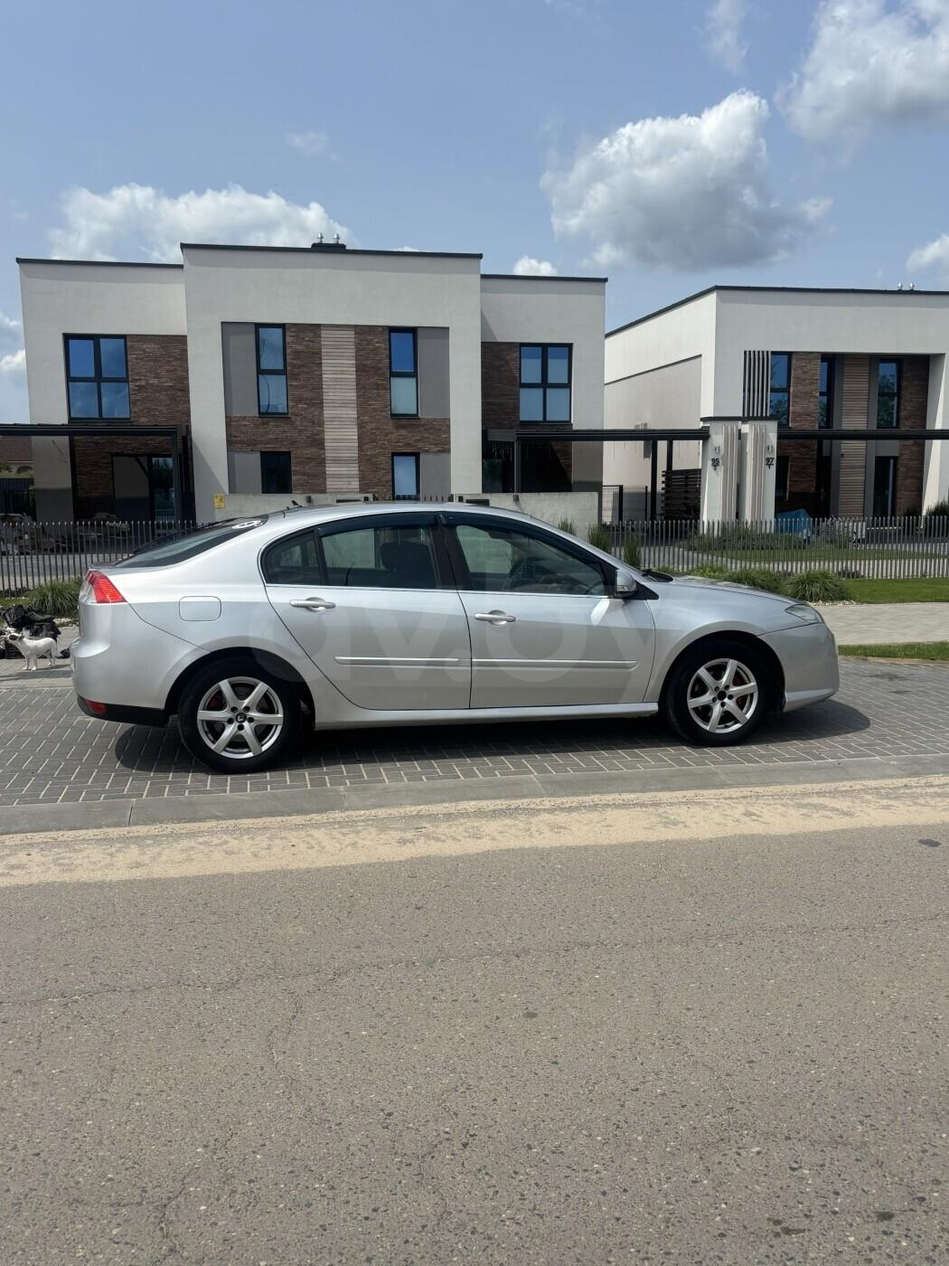Laguna_2007-2011: (71, 503, 838, 776)
